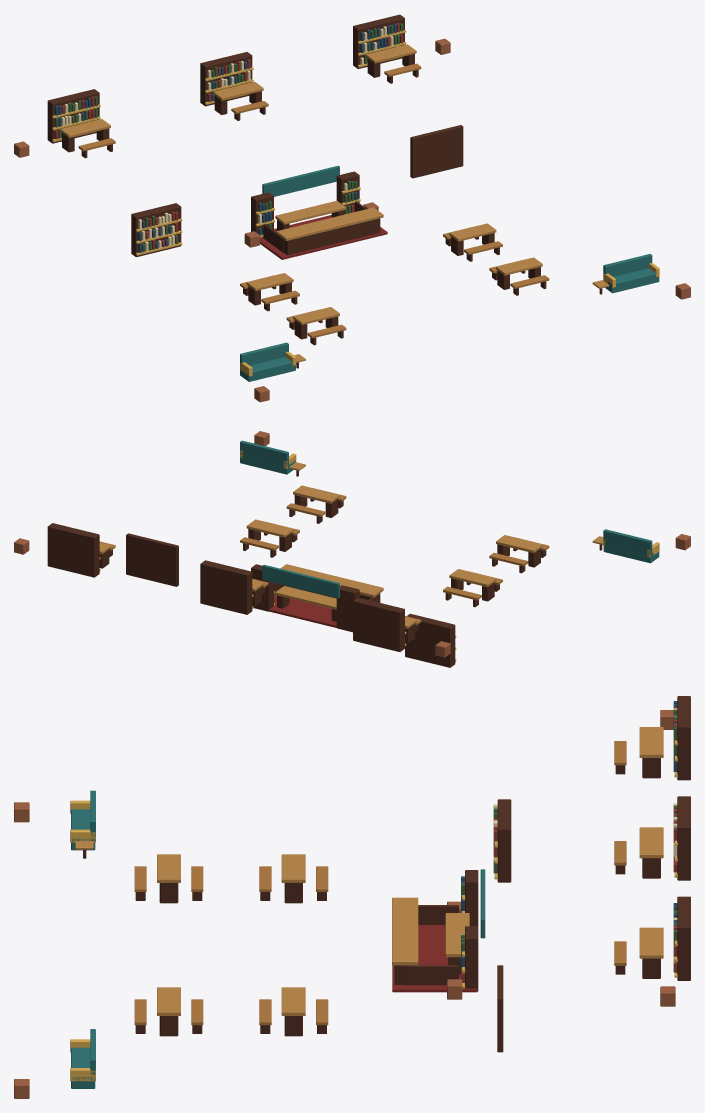
Rendered from SM_Guild_Furniture_Roomy.fbx.
3 views of the same model, one above another, from view 1: azimuth 30°, elevation 25°; view 2: azimuth 150°, elevation 25°; view 3: azimuth 270°, elevation 25° (orthographic). The views are drawn at different scales.
Parts seen in each view (by area): view 1: QuestBoard, ReceptionCounter, CounterLip, ReceptionSignBack, Bookcase.002, Bookcase.004, Bookcase.003, Bookcase.005, ReceptionDais, SofaSeat, Desk, SofaSeat.001 (+2 smaller); view 2: Bookcase.005, Bookcase.004, Bookcase.003, QuestBoard, Bookcase.002, ReceptionSignBack, ReceptionDais, SofaBack, SofaBack.001, CounterLip, Bookcase, Desk (+5 smaller); view 3: CounterLip, ReceptionDais, Bookcase.002, Bookcase.003, Bookcase.005, Bookcase.004, StationSidePanel.001, Bookcase.001, Desk, Desk.007, Desk.006, Desk.005 (+8 smaller).
Part boxes in pixels (bbox=[...]): QuestBoard: bbox=[410, 125, 463, 178]; ReceptionCounter: bbox=[283, 218, 380, 255]; CounterLip: bbox=[276, 207, 383, 240]; ReceptionSignBack: bbox=[262, 165, 339, 196]; Bookcase.002: bbox=[131, 203, 181, 257]; Bookcase.004: bbox=[200, 52, 252, 106]; Bookcase.003: bbox=[47, 89, 99, 143]; Bookcase.005: bbox=[353, 14, 404, 68]; ReceptionDais: bbox=[260, 215, 387, 259]; SofaSeat: bbox=[240, 357, 295, 381]; Desk: bbox=[275, 200, 345, 224]; SofaSeat.001: bbox=[605, 268, 659, 293]; Bookcase.005: bbox=[47, 523, 99, 577]; Bookcase.004: bbox=[200, 560, 252, 614]; Bookcase.003: bbox=[353, 597, 404, 651]; QuestBoard: bbox=[126, 533, 178, 586]; Bookcase.002: bbox=[405, 613, 455, 667]; ReceptionSignBack: bbox=[262, 564, 339, 598]; ReceptionDais: bbox=[269, 594, 336, 627]; SofaBack: bbox=[603, 529, 652, 557]; SofaBack.001: bbox=[240, 440, 288, 468]; CounterLip: bbox=[280, 564, 383, 597]; Bookcase: bbox=[336, 585, 359, 632]; Desk: bbox=[275, 586, 336, 609]; CounterLip: bbox=[392, 897, 418, 965]; ReceptionDais: bbox=[392, 925, 477, 992]; Bookcase.002: bbox=[497, 799, 511, 882]; Bookcase.003: bbox=[677, 696, 690, 780]; Bookcase.005: bbox=[677, 896, 690, 980]; Bookcase.004: bbox=[677, 796, 690, 880]; StationSidePanel.001: bbox=[405, 965, 458, 985]; Bookcase.001: bbox=[465, 926, 478, 991]; Desk: bbox=[445, 913, 469, 957]; Desk.007: bbox=[639, 927, 663, 958]; Desk.006: bbox=[639, 827, 663, 858]; Desk.005: bbox=[639, 727, 663, 757].
Bounding box in the file's own units: 2366 × 2391 × 570.
